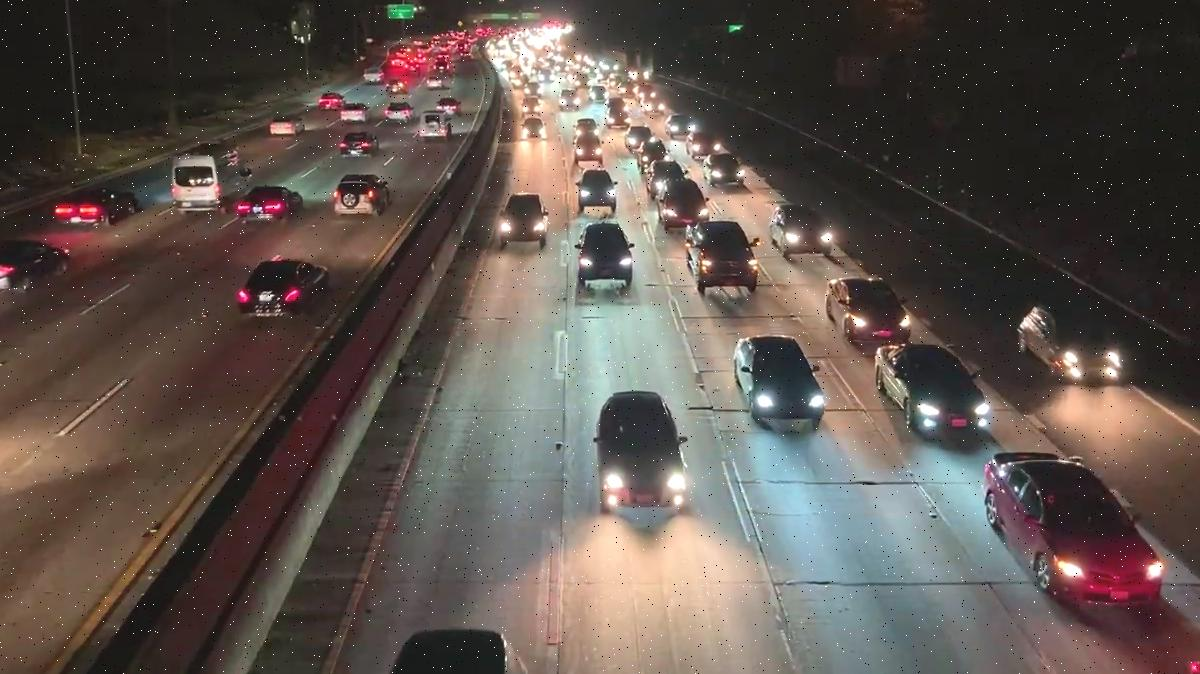bus: (167, 156, 223, 209)
car: (971, 441, 1163, 613), (583, 385, 693, 515), (1011, 297, 1143, 391), (733, 337, 831, 424), (889, 344, 986, 425), (373, 627, 525, 674), (826, 276, 908, 349), (235, 260, 335, 316), (690, 220, 758, 290), (489, 188, 554, 253), (576, 221, 635, 288), (0, 242, 71, 294), (651, 179, 723, 230), (766, 206, 831, 255), (567, 167, 624, 215), (334, 174, 394, 216), (230, 187, 301, 222), (52, 192, 115, 226), (640, 158, 687, 189), (704, 152, 743, 187), (417, 108, 454, 142), (567, 134, 605, 165), (680, 130, 722, 158), (518, 112, 553, 144), (618, 123, 658, 148), (338, 134, 377, 157), (663, 112, 695, 140), (340, 97, 373, 122), (552, 88, 586, 112), (382, 102, 416, 125), (427, 96, 466, 115), (269, 119, 301, 137), (313, 93, 343, 110), (422, 75, 447, 91), (363, 66, 385, 84)
